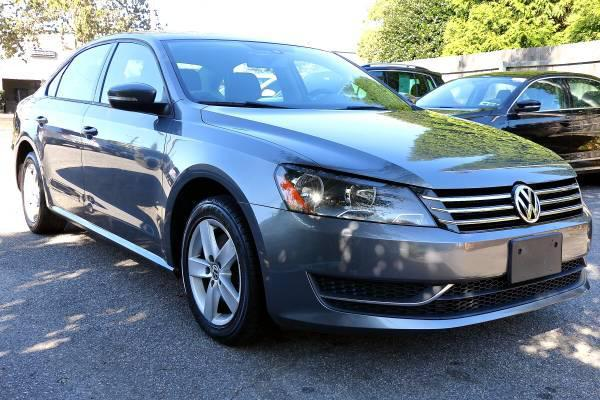Front_Bumper: (242, 201, 592, 329)
Front_Fender: (168, 101, 318, 213)
Front_Right_Door: (82, 100, 173, 266)
Front_Right_Window: (97, 33, 174, 111)
Front_Windshield: (162, 36, 421, 109)
Grille: (406, 177, 586, 235)
Hood: (201, 105, 573, 189)
Rear_Fender: (13, 73, 54, 151)
Rear_Right_Door: (33, 97, 95, 223)
Rear_Right_Window: (48, 38, 115, 102)
Right_Headlight: (273, 163, 438, 225)
Roof: (136, 33, 183, 103)
Wheel: (178, 195, 260, 337), (18, 147, 64, 228)
